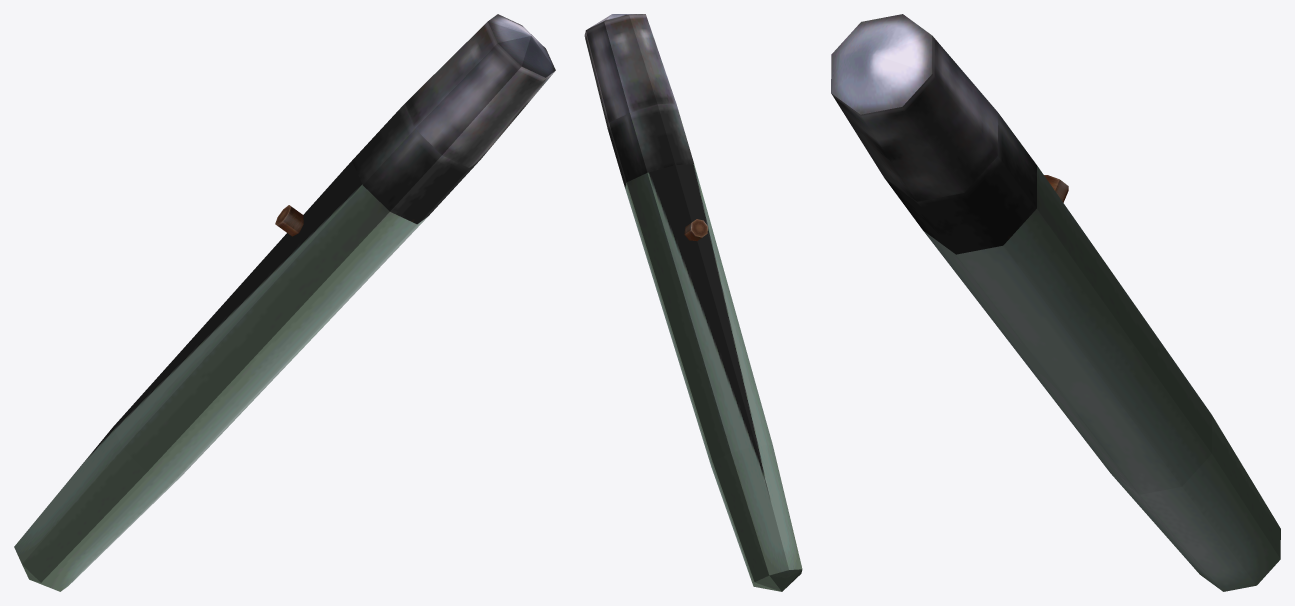
Rendered from betaicon.ico.obj.
The picture shows the model from 3 angles, left to right: view 1: azimuth 30°, elevation 25°; view 2: azimuth 150°, elevation 25°; view 3: azimuth 270°, elevation 25°; orthographic projection. The views are drawn at different scales.
Size of the model in its own units: 3.39 by 4.66 by 2.46.
1 material, 1 textured.
